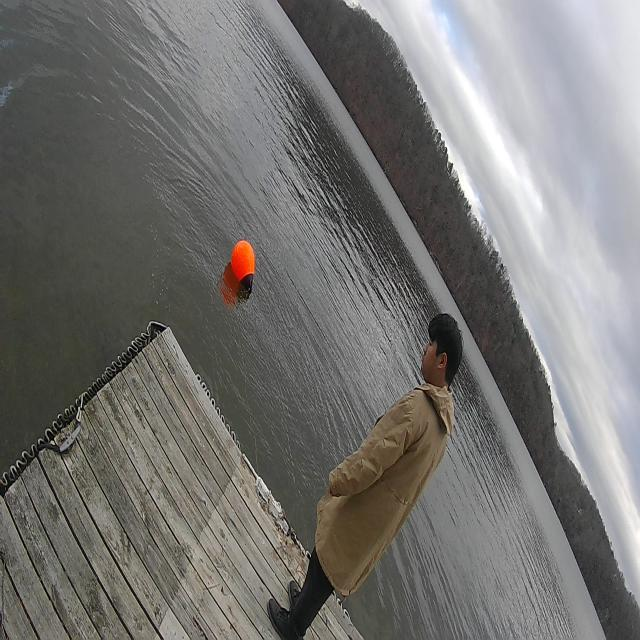Buoy: (228, 236, 260, 296)
